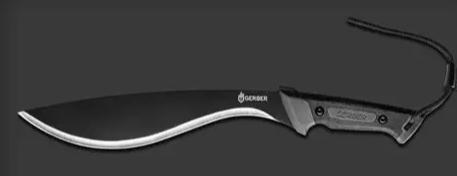MACHETTE: (12, 89, 457, 176)
